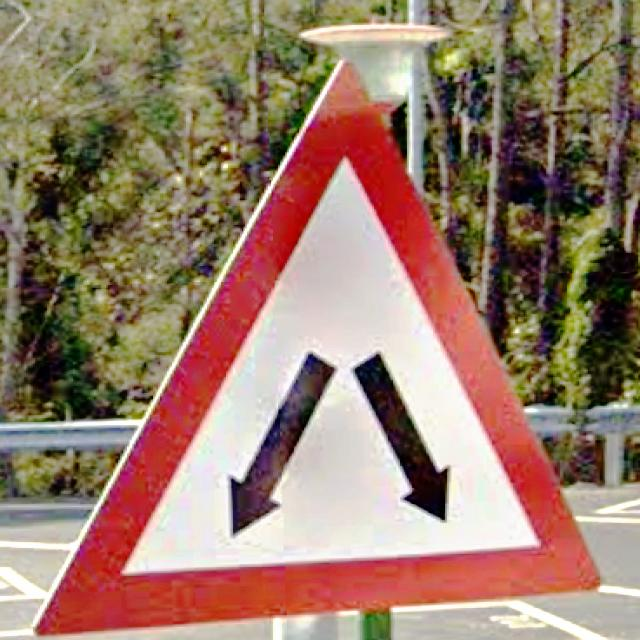diverge: (31, 61, 602, 640)
